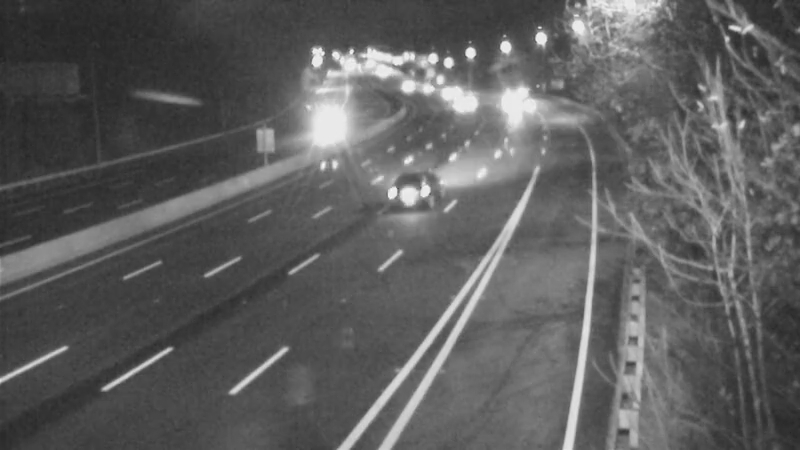vehicle: (381, 156, 461, 236), (405, 65, 455, 115), (376, 61, 426, 111), (425, 72, 475, 122), (485, 70, 535, 120), (435, 76, 485, 126), (299, 106, 349, 156)
